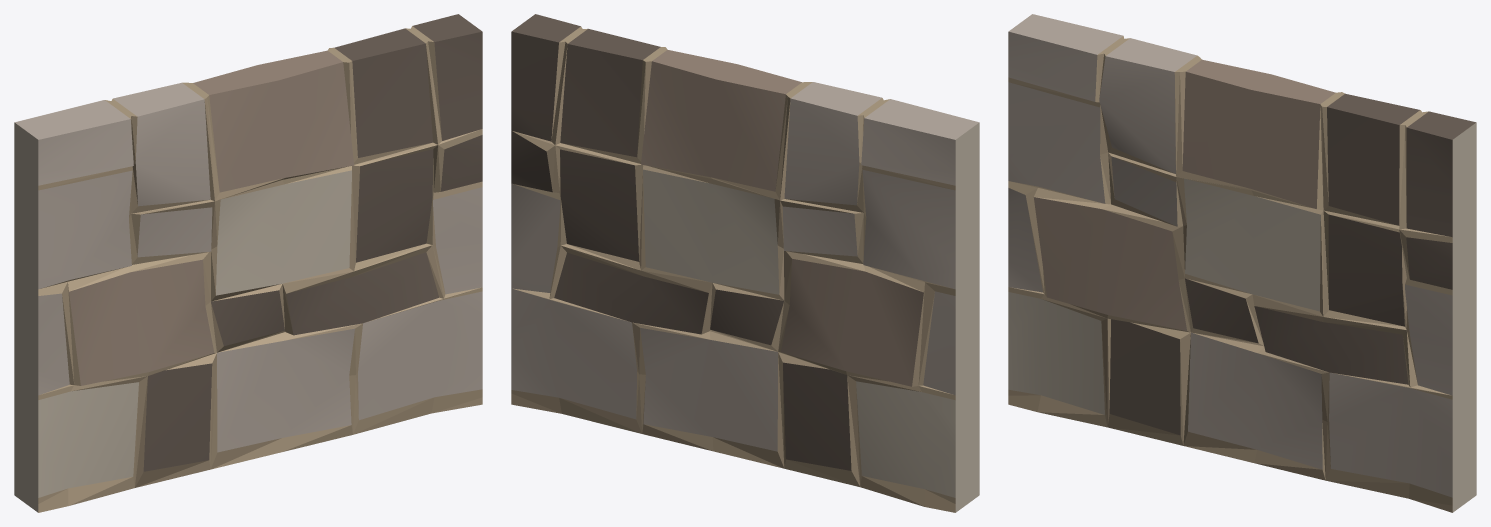
The model's file is RG-Dungeon_Wall-02.fbx.
3 renders of one model, left to right at view 1: azimuth 30°, elevation 25°; view 2: azimuth 150°, elevation 25°; view 3: azimuth 330°, elevation 25°, orthographic.
Parts seen in each view (by area): view 1: RG-Dungeon_Wall-02; view 2: RG-Dungeon_Wall-02; view 3: RG-Dungeon_Wall-02.
Part boxes in pixels (x1,y1,x2,y2): RG-Dungeon_Wall-02: (14, 14, 482, 512); RG-Dungeon_Wall-02: (511, 14, 979, 512); RG-Dungeon_Wall-02: (1008, 14, 1476, 512).
Size of the model in its own units: 20 by 16.05 by 2.85.
